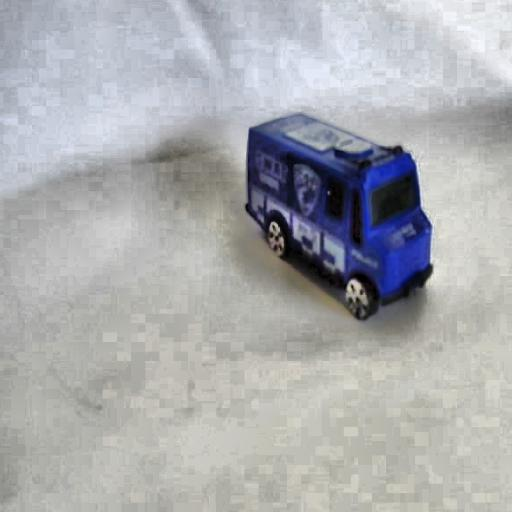police car: (244, 116, 434, 323)
